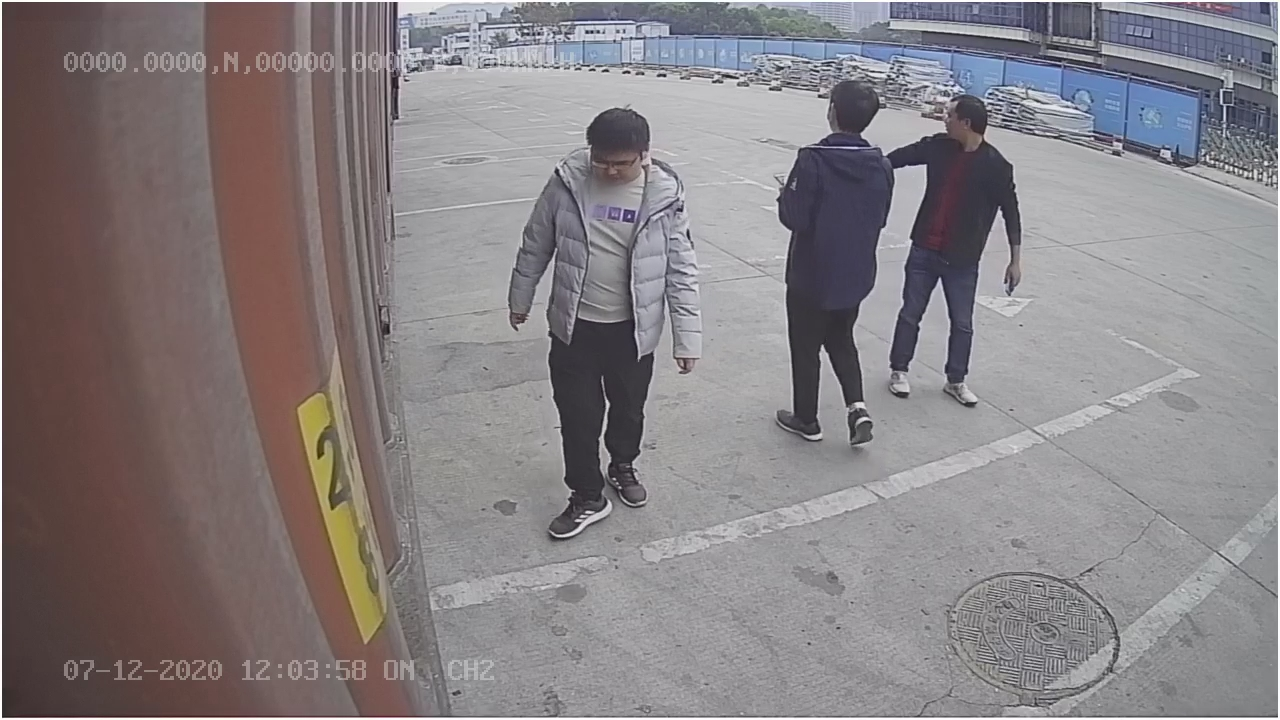person: (509, 99, 705, 538), (769, 79, 896, 445)
